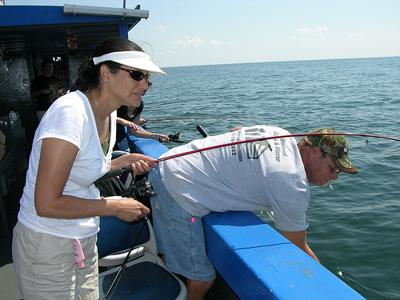person: (12, 37, 150, 300)
